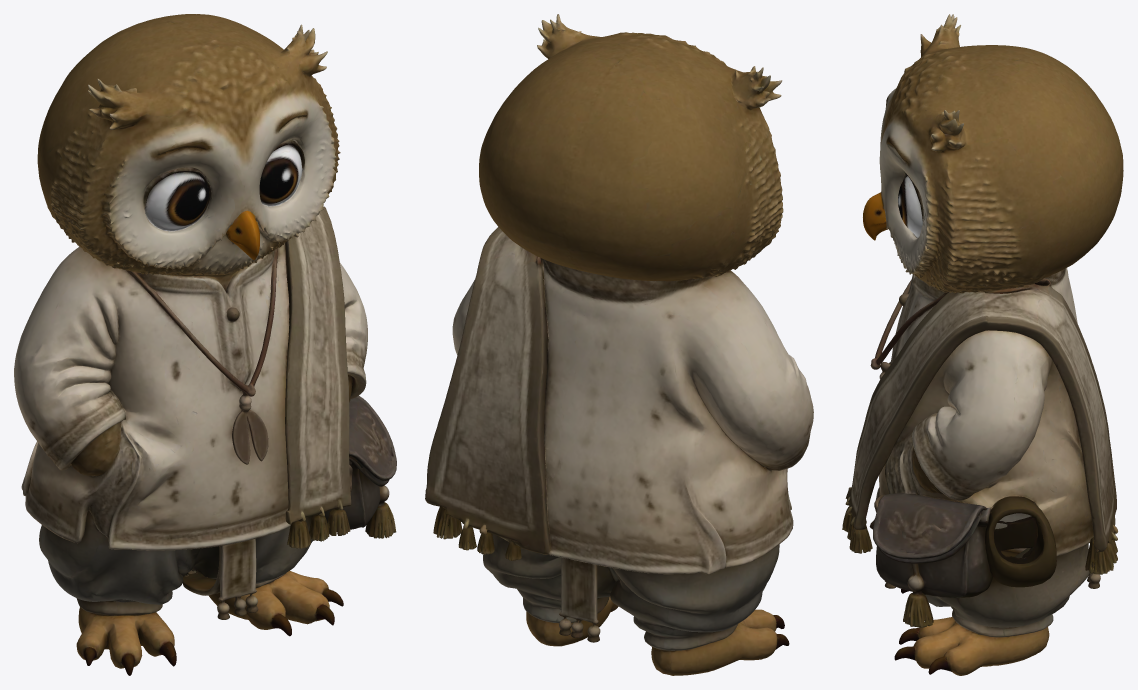
File: owl.glb
The picture shows the model from 3 angles, left to right: view 1: azimuth 30°, elevation 25°; view 2: azimuth 150°, elevation 25°; view 3: azimuth 270°, elevation 25°; orthographic projection. The views are drawn at different scales.
Parts seen in each view (by area): view 1: world; view 2: world; view 3: world.
Boxes of the visible parts, x1=… form: world: x1=14, y1=14, x2=396, y2=675; world: x1=425, y1=14, x2=813, y2=675; world: x1=842, y1=14, x2=1123, y2=675.
Size of the model in its own units: 0.6136 by 1 by 0.4515.
Materials: 1 (1 with a texture image).
